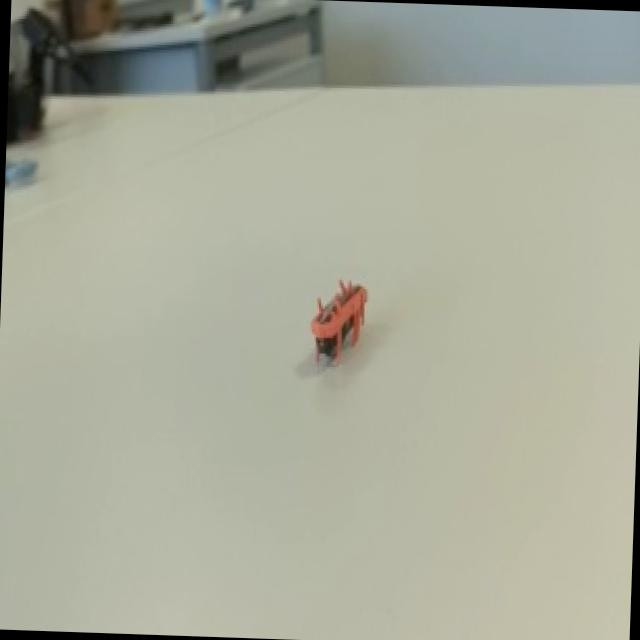7_NanoBug_Naranja: (289, 252, 385, 408)
